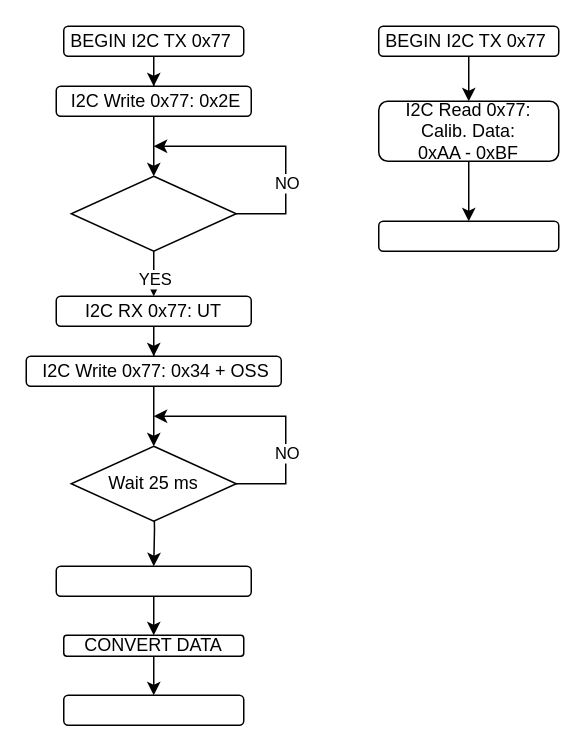
The diagram is 585 pixels wide and 752 high, and some of its shapes have lost their labels. Each missing label, with the centre of its shape:
END TX 0x77: the point at 468,235
I2C RX 0x77: UP: the point at 153,580
SAVE DATA: the point at 153,709
Wait 4.5 ms: the point at 153,213
